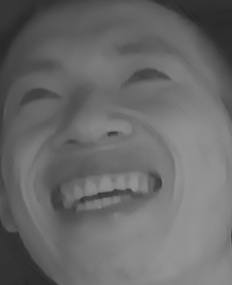eye: (122, 59, 177, 95), (11, 86, 66, 117)
mouth: (45, 159, 165, 232)
